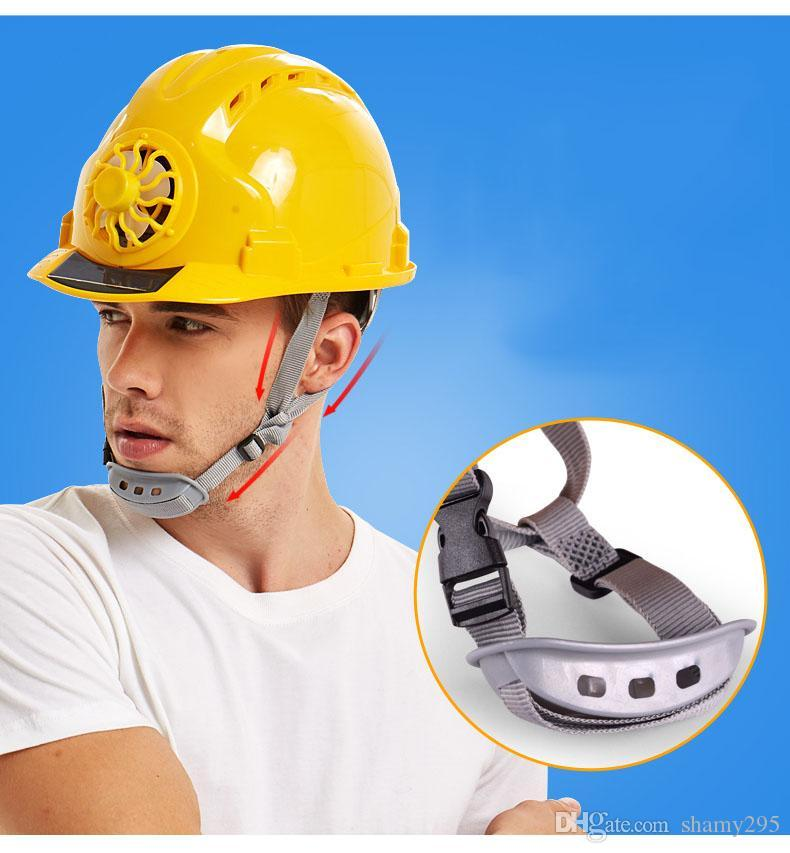helmet: (23, 43, 416, 298)
